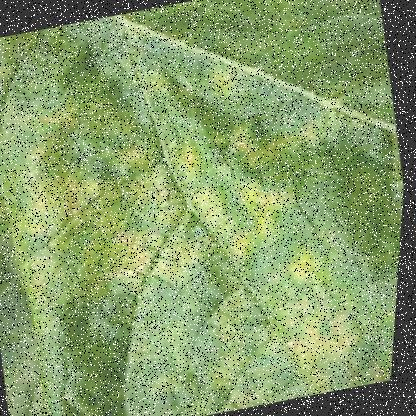DownyMildew: (0, 36, 371, 409)
